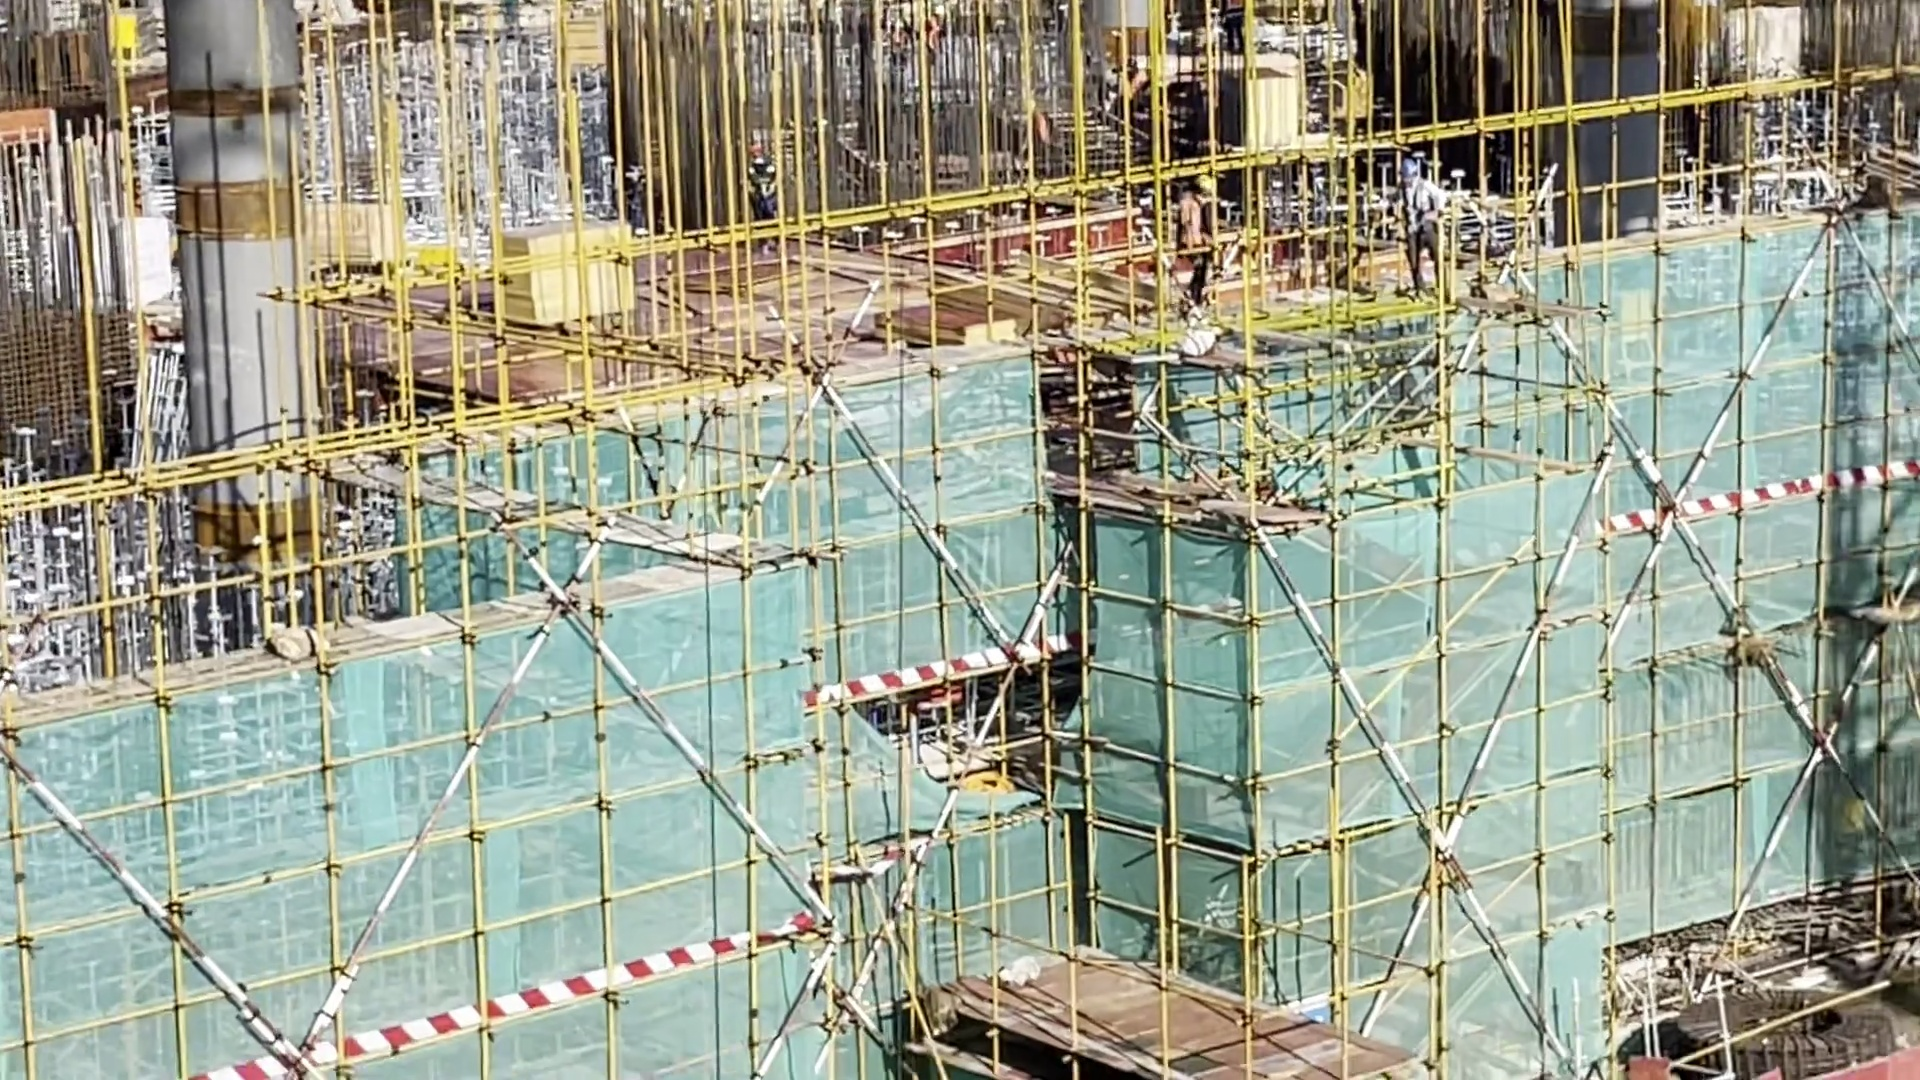helmet: (1398, 152, 1427, 185), (747, 136, 770, 158), (1195, 169, 1213, 194)
person: (1391, 158, 1464, 303), (1173, 197, 1223, 299), (748, 136, 782, 224)
vest: (1177, 198, 1221, 245), (1398, 187, 1437, 230), (748, 161, 776, 199)
